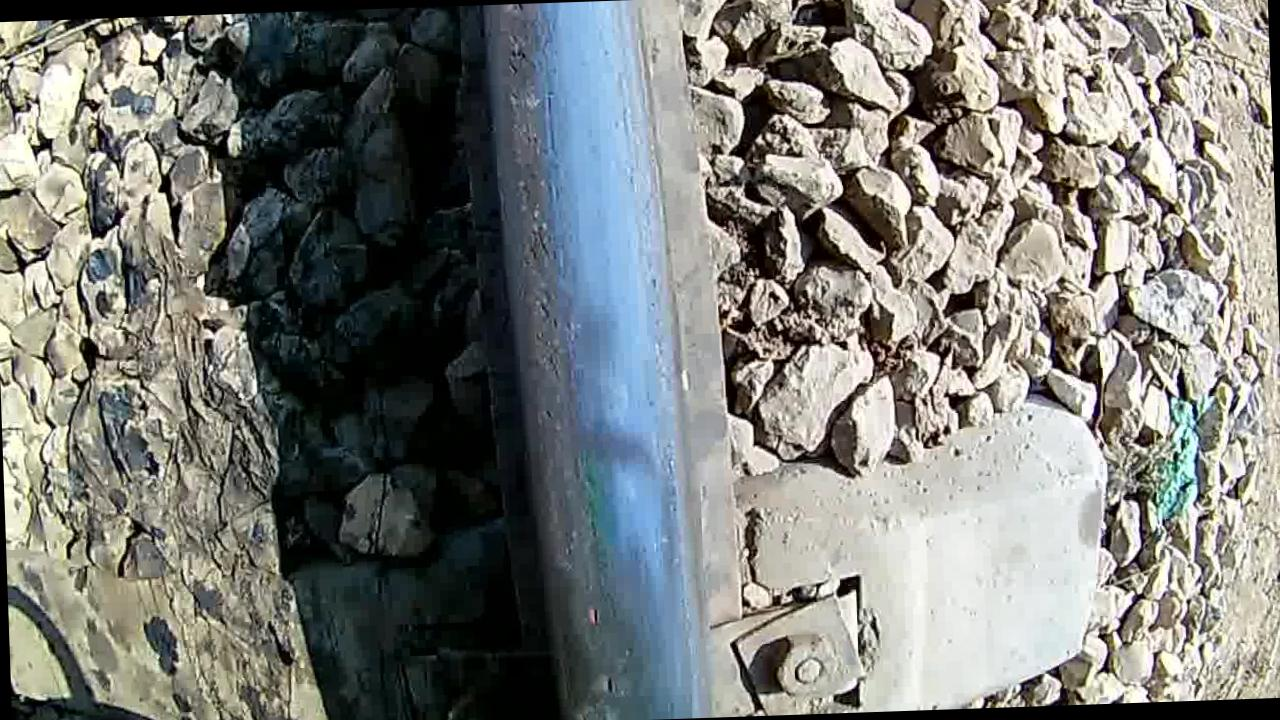crack: (477, 0, 661, 720)
